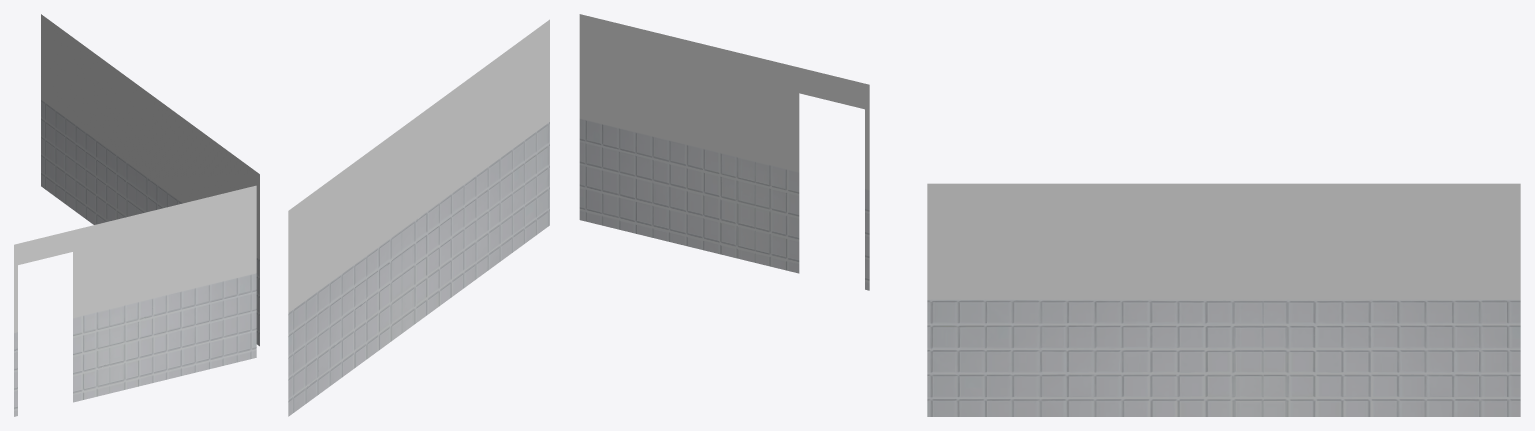
Rendered from Senac parede.fbx.
The picture shows the model from 3 angles, left to right: view 1: azimuth 30°, elevation 25°; view 2: azimuth 150°, elevation 25°; view 3: azimuth 270°, elevation 25°; orthographic projection. The views are drawn at different scales.
Visible parts, largest first — view 1: corredor informatica T 01.001, parede informatica T 01.001; view 2: parede informatica T 01.001, corredor informatica T 01.001; view 3: parede informatica T 01.001.
Boxes of the visible parts, x1,y1,x2,y2 form: corredor informatica T 01.001: [14, 185, 256, 416]; parede informatica T 01.001: [41, 14, 259, 346]; parede informatica T 01.001: [288, 19, 549, 416]; corredor informatica T 01.001: [579, 14, 869, 290]; parede informatica T 01.001: [927, 183, 1520, 416].
Bounding box in the file's own units: 3.74 × 2.4 × 5.8.
1 material, 1 textured.
